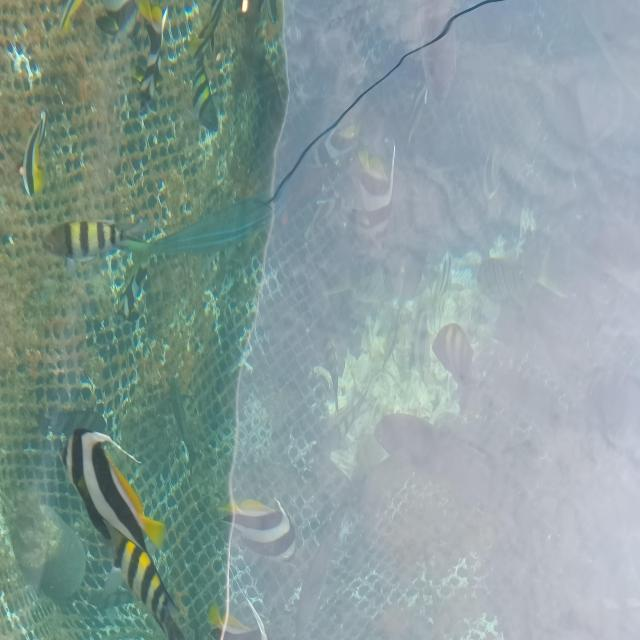ikan: (57, 426, 186, 639), (40, 214, 158, 274), (218, 496, 297, 561), (431, 322, 476, 414), (18, 108, 48, 198), (190, 64, 220, 133), (206, 602, 252, 638)
